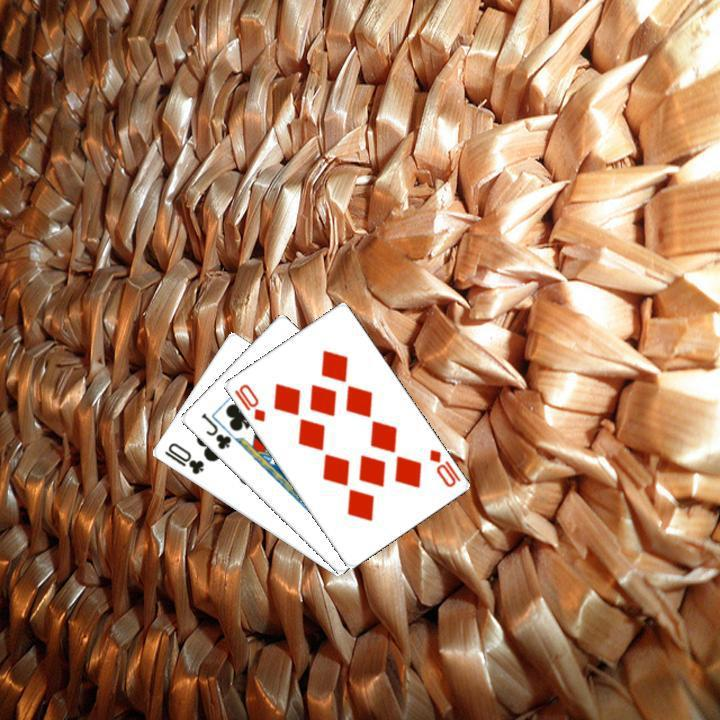10: (160, 438, 206, 477), (229, 379, 267, 424), (424, 445, 462, 489)
J: (196, 409, 233, 452)
